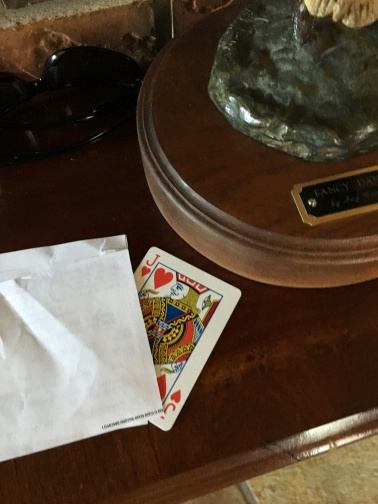jack: (128, 245, 243, 430)
